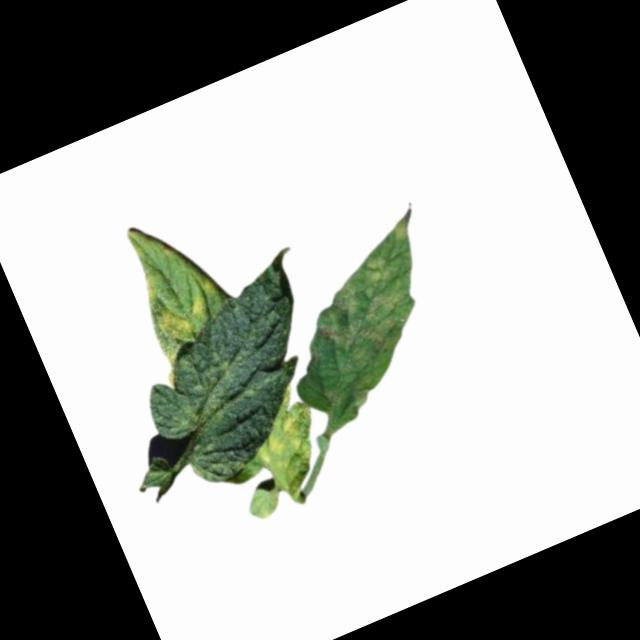Leaf_Mold: (282, 207, 474, 420), (237, 386, 332, 496), (147, 290, 217, 351), (136, 267, 171, 303), (196, 271, 219, 296)
